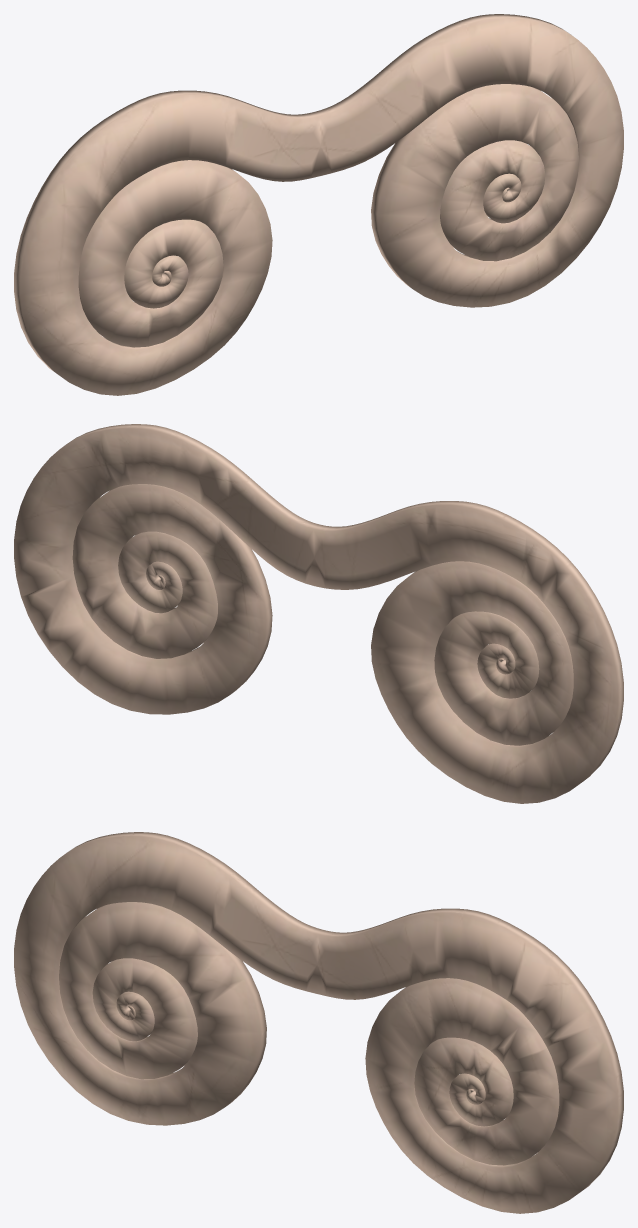
File: tairona_-_pechera_de_oro.lod1.glb
3 renders of one model, top to bottom at view 1: azimuth 30°, elevation 25°; view 2: azimuth 150°, elevation 25°; view 3: azimuth 330°, elevation 25°, orthographic.
Visible parts, largest first — view 1: Plane; view 2: Plane; view 3: Plane.
Boxes of the visible parts, left/top/right/bottom form: Plane: left=14, top=14, right=623, bottom=395; Plane: left=14, top=424, right=623, bottom=803; Plane: left=14, top=832, right=623, bottom=1213.
Size of the model in its own units: 5.69 by 2.59 by 0.3854.
Materials: 1 (1 with a texture image).
